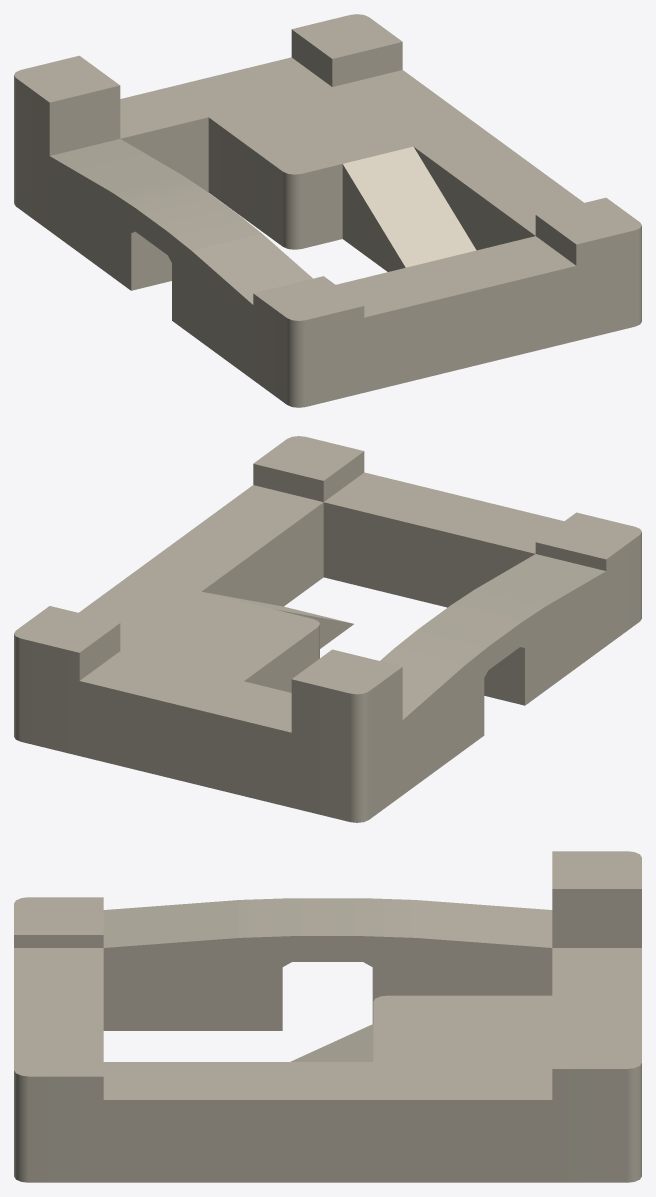
The model's file is building01.fbx.
3 views of the same model, one above another, from view 1: azimuth 30°, elevation 25°; view 2: azimuth 150°, elevation 25°; view 3: azimuth 270°, elevation 25° (orthographic). The views are drawn at different scales.
Visible parts, largest first — view 1: building_1_1; view 2: building_1_1; view 3: building_1_1.
Part boxes in pixels (box(x1,y1,x2,y2)): building_1_1: box(14, 14, 641, 407); building_1_1: box(14, 436, 641, 822); building_1_1: box(14, 851, 641, 1182).
Bounding box in the file's own units: 50.06 × 17.42 × 69.96.
